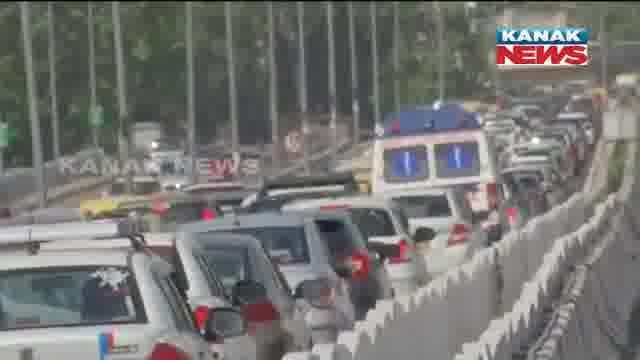AMBULANCE: (355, 103, 507, 194)
